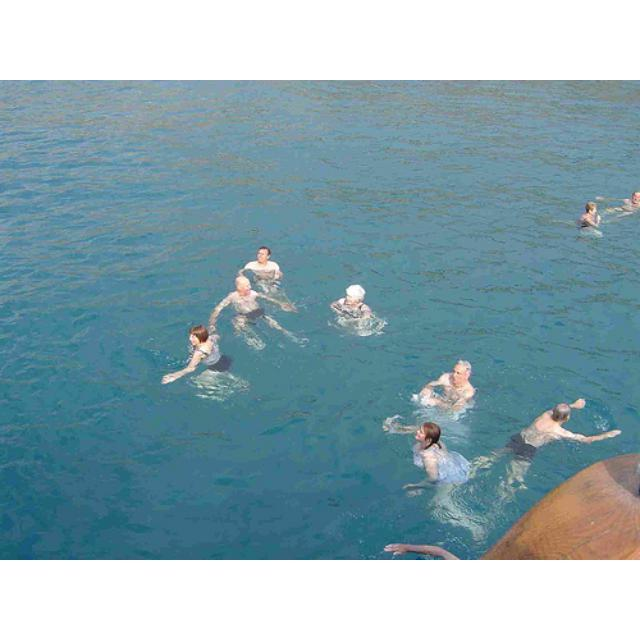human: (495, 391, 620, 479), (381, 417, 477, 496), (213, 269, 283, 343), (162, 322, 228, 393), (421, 352, 479, 416), (336, 283, 375, 329), (245, 244, 284, 282), (607, 191, 640, 217), (579, 199, 602, 234)
